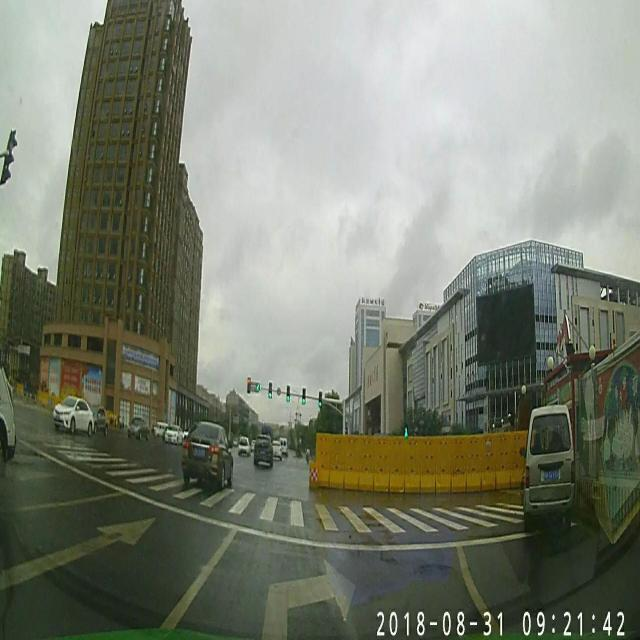car: (520, 406, 578, 519), (181, 418, 233, 488), (56, 396, 92, 434), (254, 432, 273, 468), (272, 440, 282, 462)
